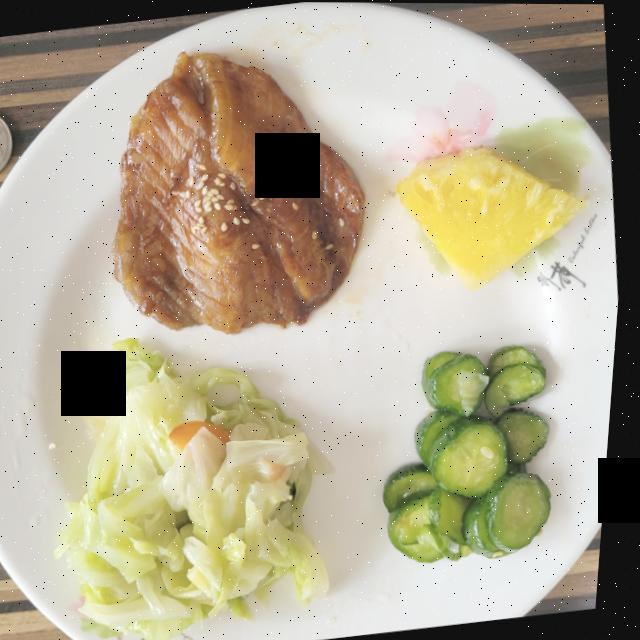Kabayaki sea bream fillet: (115, 52, 366, 333)
cabbage: (63, 338, 336, 640)
coin: (0, 117, 13, 172)
cucumber: (390, 344, 557, 561)
pineapple: (397, 145, 590, 289)
